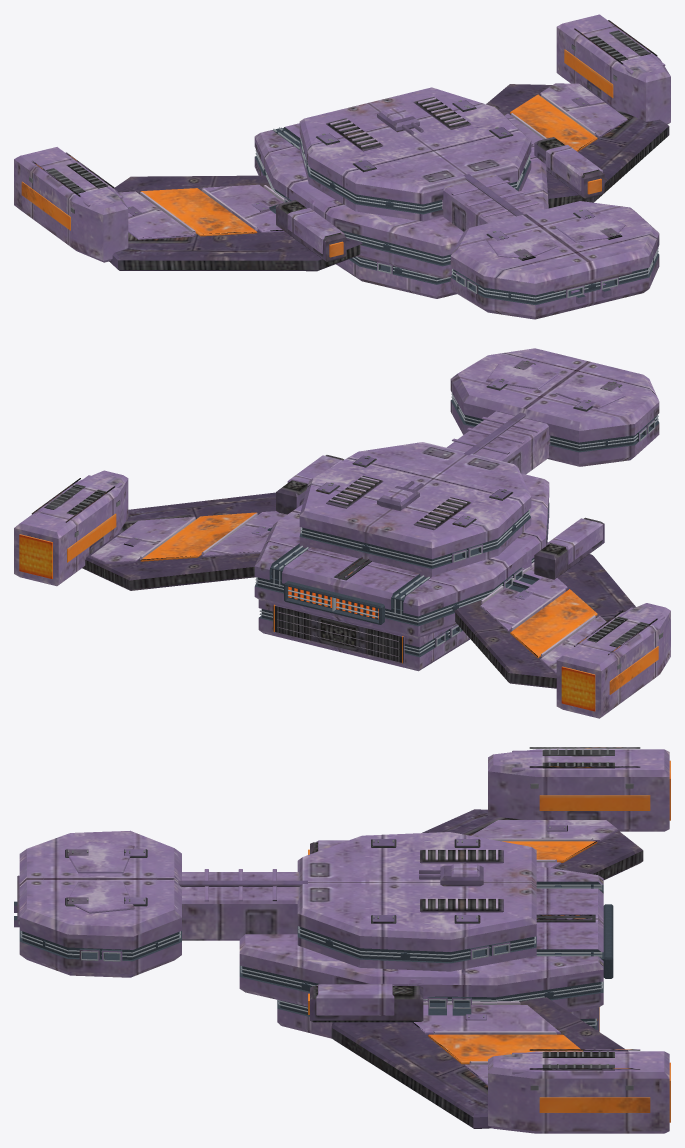
The model's file is gorath.glb.
The picture shows the model from 3 angles, top to bottom: view 1: azimuth 30°, elevation 25°; view 2: azimuth 150°, elevation 25°; view 3: azimuth 270°, elevation 25°; orthographic projection. The views are drawn at different scales.
Parts seen in each view (by area): view 1: gorath_revised_hull; view 2: gorath_revised_hull; view 3: gorath_revised_hull.
Boxes of the visible parts, x1,y1,x2,y2 form: gorath_revised_hull: (14, 14, 670, 319); gorath_revised_hull: (14, 348, 670, 718); gorath_revised_hull: (14, 747, 670, 1133).
Bounding box in the file's own units: 68.41 × 14.22 × 57.93.
4 materials, 2 textured.
